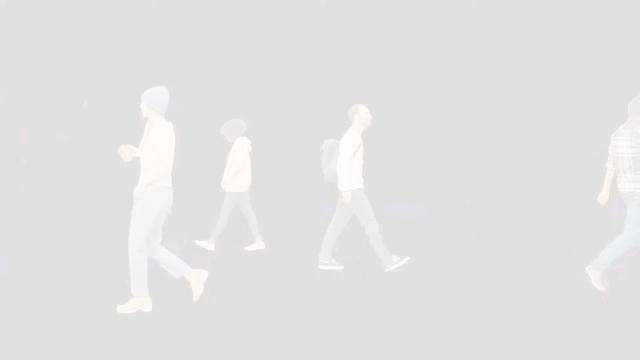berjalan: (106, 78, 206, 324), (298, 96, 416, 278), (188, 120, 268, 254)
